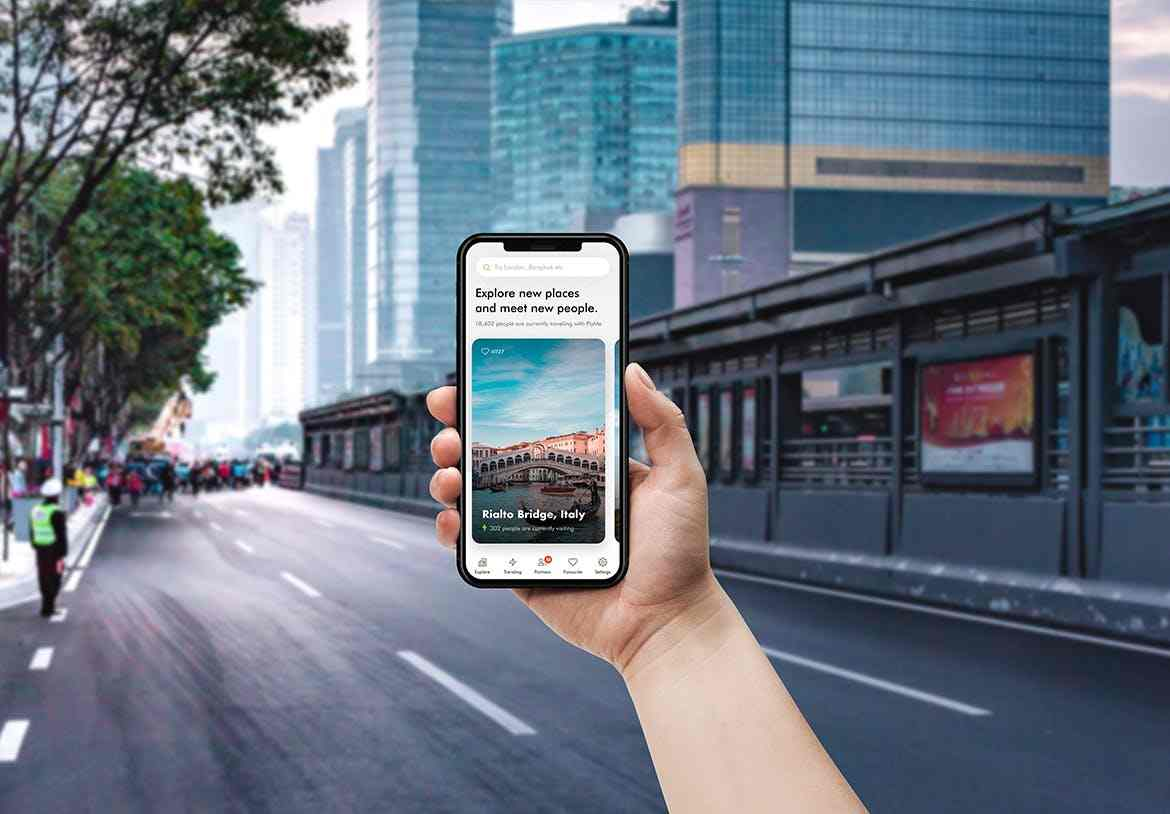phone: (428, 229, 710, 653)
